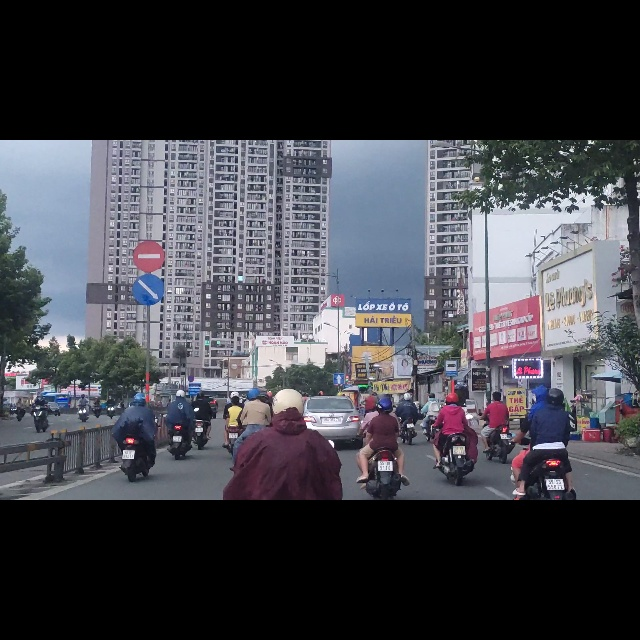bien_chi_dan: (130, 236, 165, 295), (132, 178, 165, 236), (445, 389, 458, 420), (334, 414, 345, 434)
